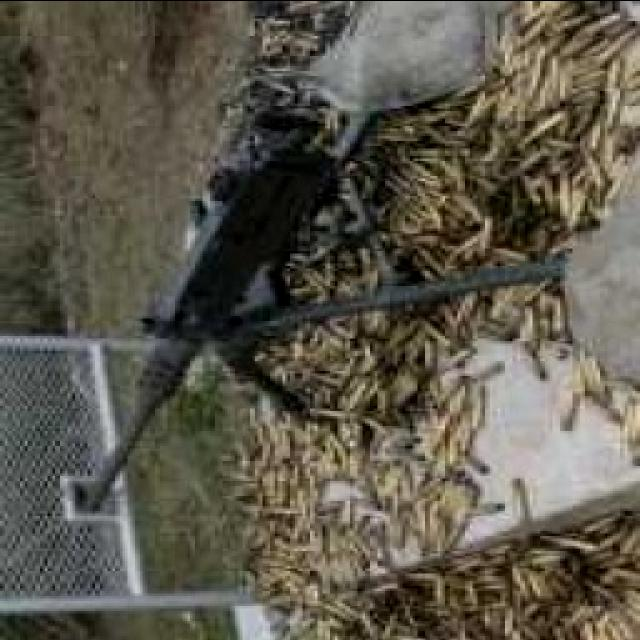long weapon: (78, 34, 526, 512)
